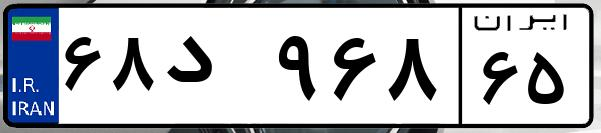5: (525, 38, 570, 115)
6: (330, 28, 385, 110), (57, 26, 110, 100), (475, 38, 525, 113)
8: (385, 28, 445, 110), (110, 28, 158, 98)
9: (270, 28, 330, 110)
د: (158, 20, 270, 120)
